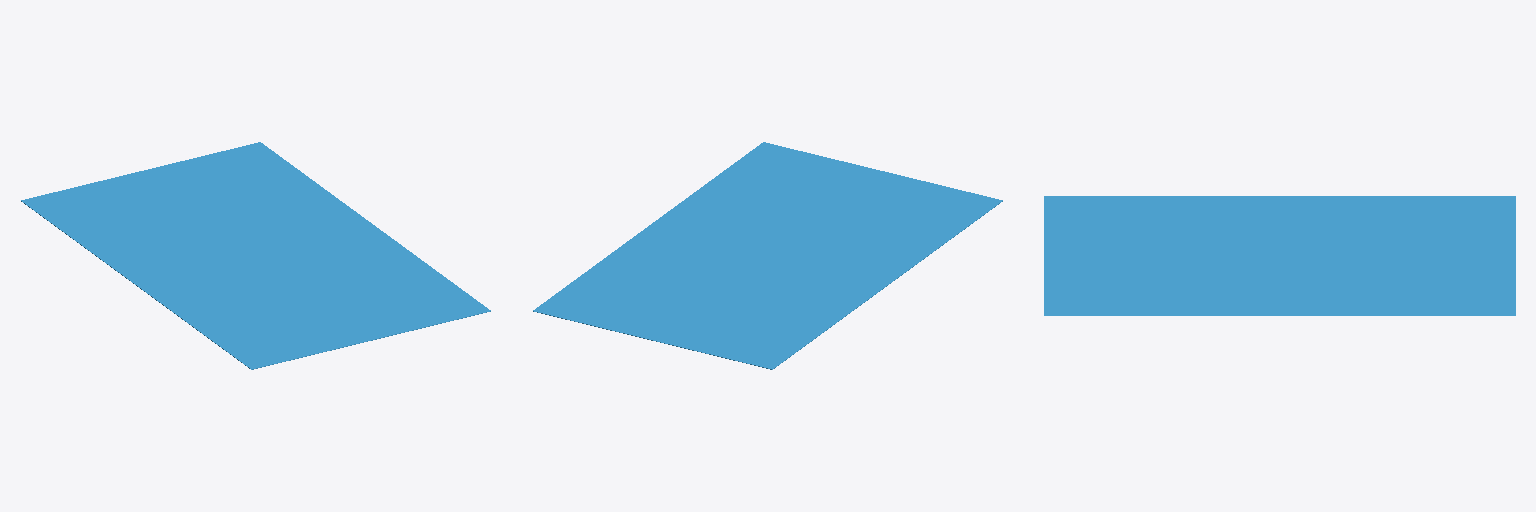
URDF robot description (surface):
<?xml version="1.0"?>
<robot name="surface">
  <link name="world" />

  <link name="table">
    <visual>
      <geometry>
	<box size="0.6 1 0.001" />
      </geometry>
    </visual>
    <collision>
      <geometry>
	<box size="0.6 1 0.005" />
      </geometry>
    </collision>
    <inertial>
      <mass value="100" />
      <inertia ixx="100" ixy="0" ixz="0" iyy="100" iyz="0" izz="100" />
    </inertial>
  </link>

  <joint name="fixed" type="fixed">
    <origin rpy="0 0 0" xyz="0.75 0 0.25" />
    <parent link="world" />
    <child link="table" />
  </joint>

</robot>

--- What the picture shows (computed from the rendered views, not written in the file) ---
The picture shows the robot from 3 angles, left to right: view 1: azimuth 30°, elevation 25°; view 2: azimuth 150°, elevation 25°; view 3: azimuth 270°, elevation 25°; orthographic projection.
Model surface with 2 links and 1 joints (1 fixed), rooted at world, posed all joints at 0.
Visible links, largest first — view 1: table; view 2: table; view 3: table.
Link boxes in pixels (left/top/right/bottom): table: left=21, top=142, right=490, bottom=369; table: left=533, top=142, right=1002, bottom=369; table: left=1044, top=196, right=1515, bottom=315.
Bounding box of the posed robot: 0.6 × 1 × 0.001 m (x, y, z).
Geometry: primitives only (box / cylinder / sphere), no mesh files.
